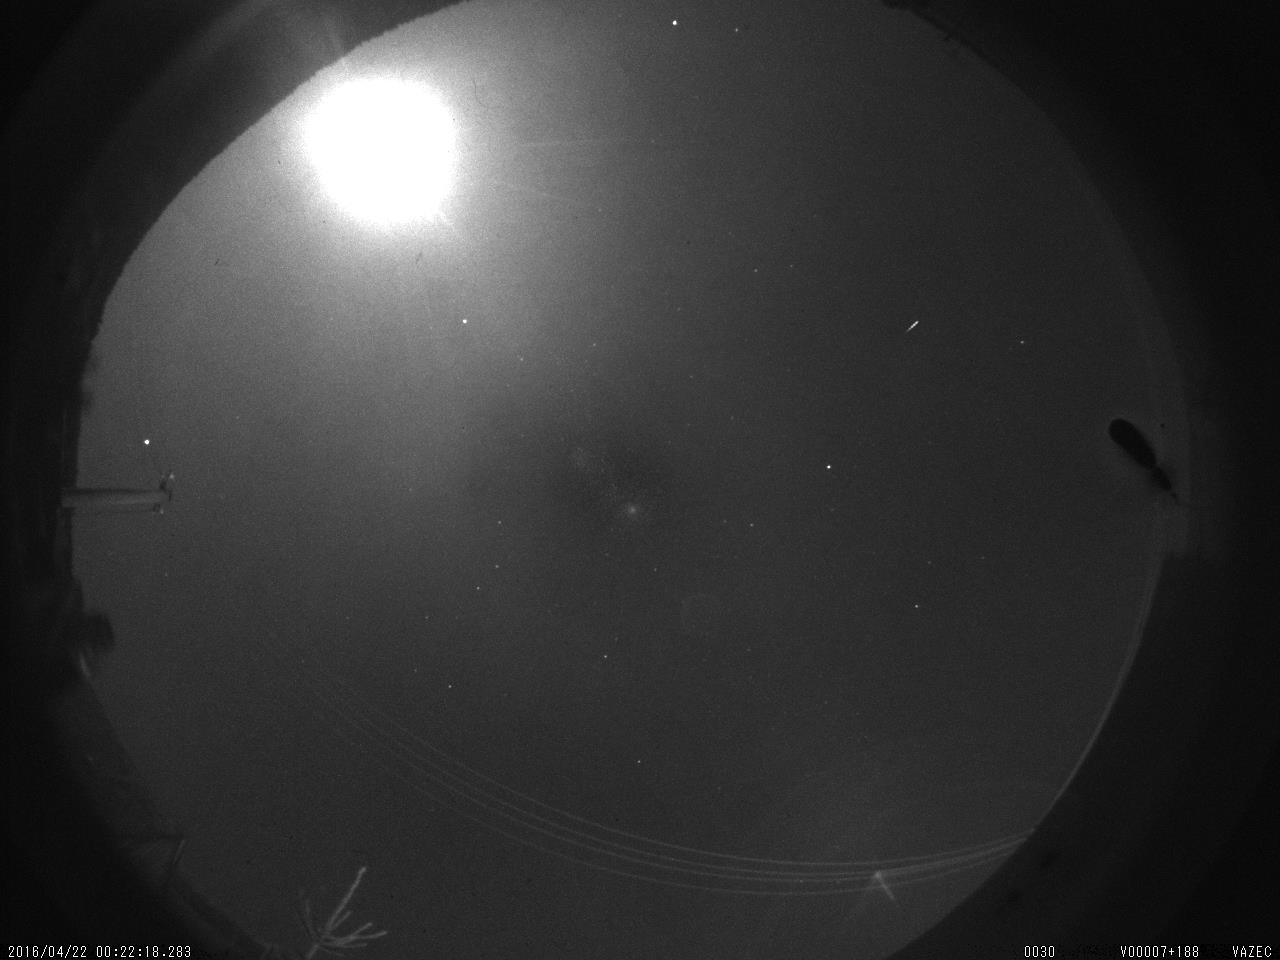meteor: (887, 302, 945, 361)
